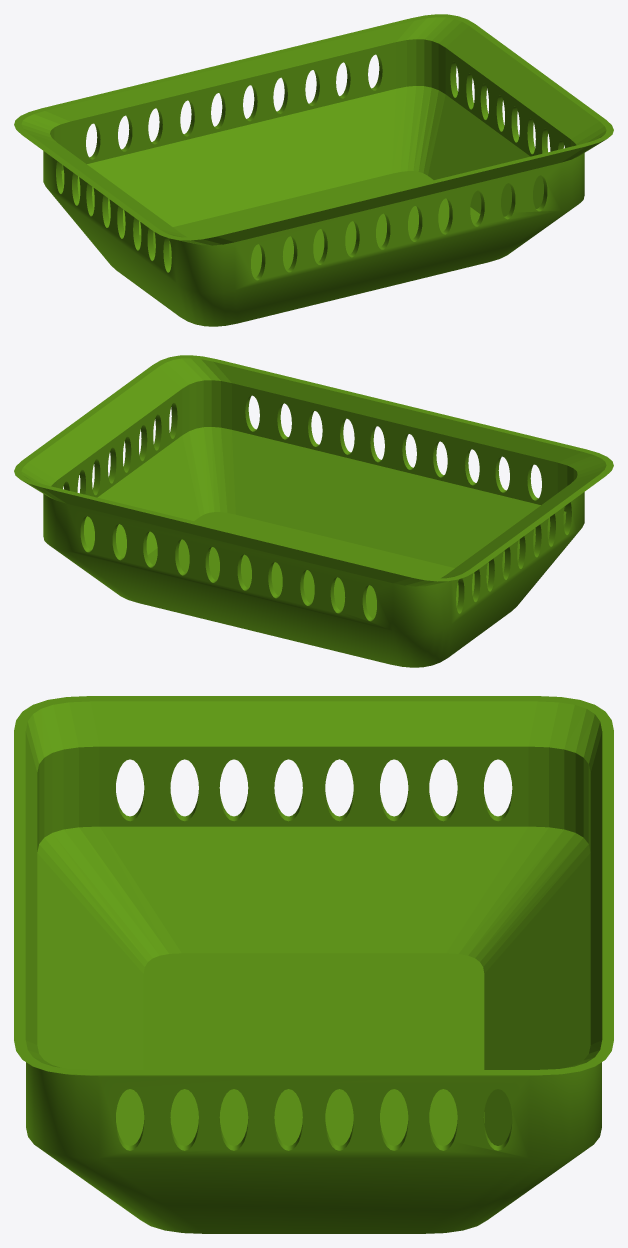
Rendered from BasketBin.FBX.
3 renders of one model, top to bottom at view 1: azimuth 30°, elevation 25°; view 2: azimuth 150°, elevation 25°; view 3: azimuth 270°, elevation 25°, orthographic. The views are drawn at different scales.
Visible parts, largest first — view 1: Box001; view 2: Box001; view 3: Box001.
Part boxes in pixels (bbox=[...]): Box001: bbox=[14, 14, 613, 326]; Box001: bbox=[14, 355, 613, 667]; Box001: bbox=[14, 696, 613, 1233].
Size of the model in its own units: 44.75 by 11.86 by 29.91.
